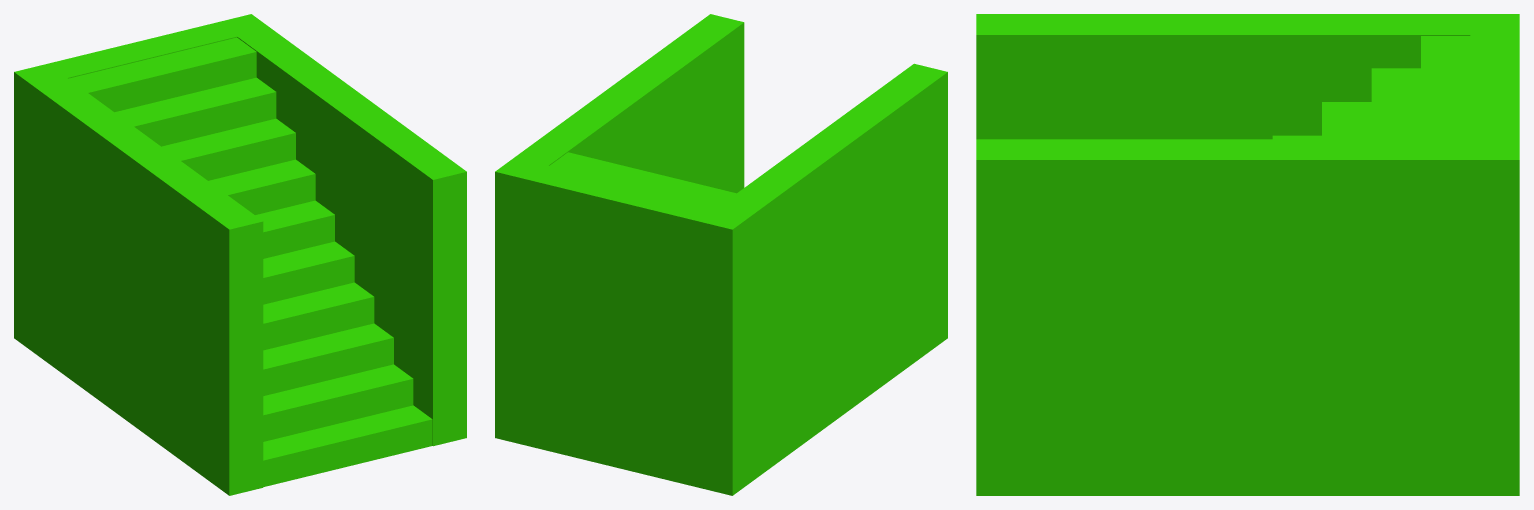
Rendered from stairs01.fbx.
The picture shows the model from 3 angles, left to right: view 1: azimuth 30°, elevation 25°; view 2: azimuth 150°, elevation 25°; view 3: azimuth 270°, elevation 25°; orthographic projection. The views are drawn at different scales.
Parts seen in each view (by area): view 1: stairs01; view 2: stairs01; view 3: stairs01.
Part boxes in pixels (x1,y1,x2,y2): stairs01: (14,14,466,495); stairs01: (495,14,947,495); stairs01: (976,14,1519,495).
Bounding box in the file's own units: 280 × 300 × 440.
